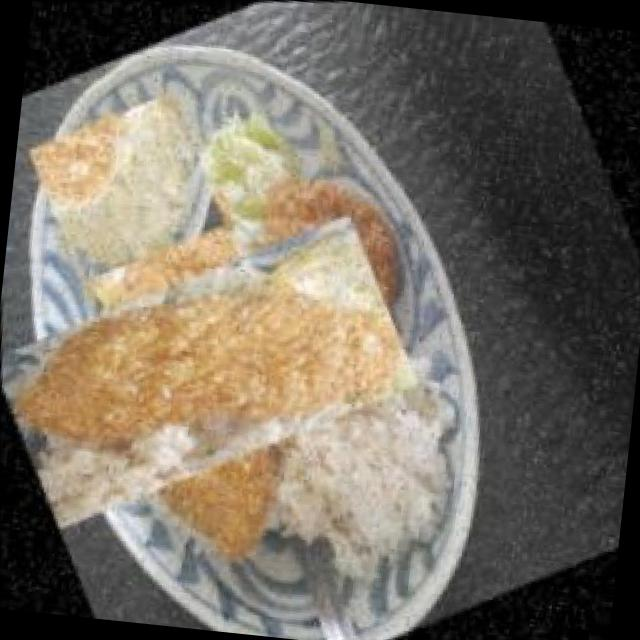chinese_cabbage: (178, 78, 326, 234)
fried_chicken: (0, 145, 429, 596)
fried_eggs: (8, 68, 246, 302)
rice: (201, 258, 507, 612)
triangle_hash_brown: (216, 128, 436, 370)
